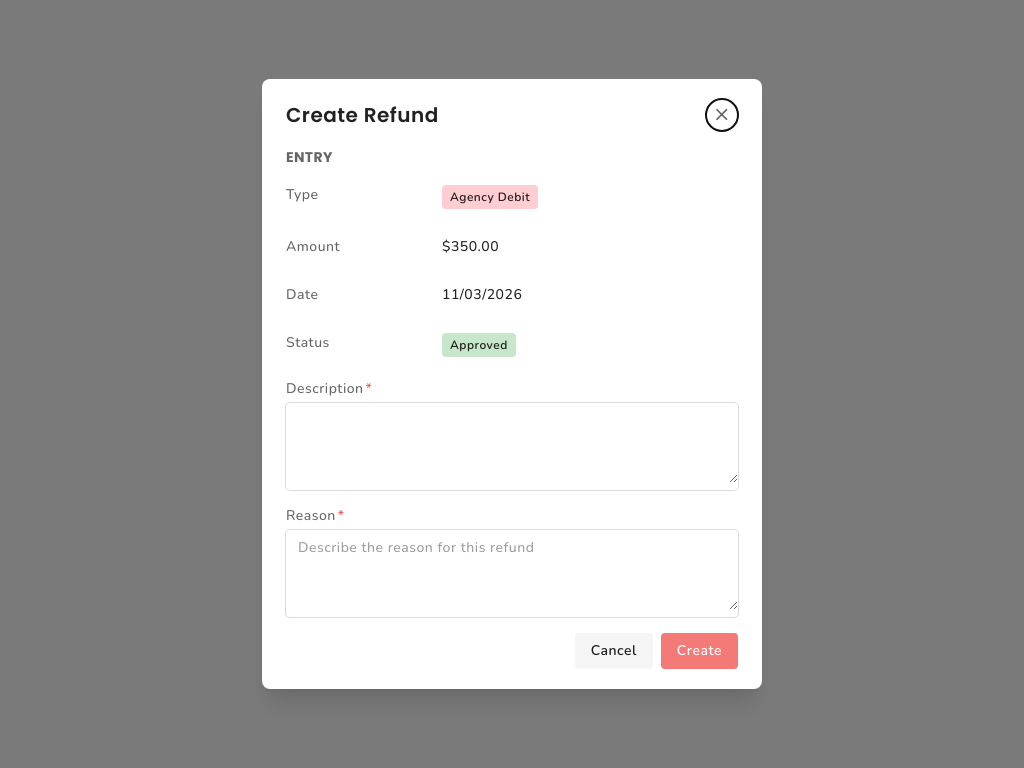
Scenario: CreateRefundModal › falls back to the generic message on a 500
The width and height of the screenshot is (1024, 768).
Type "Refund requested" into the text box named "Description" at (512, 443), box [286,403,738,483]
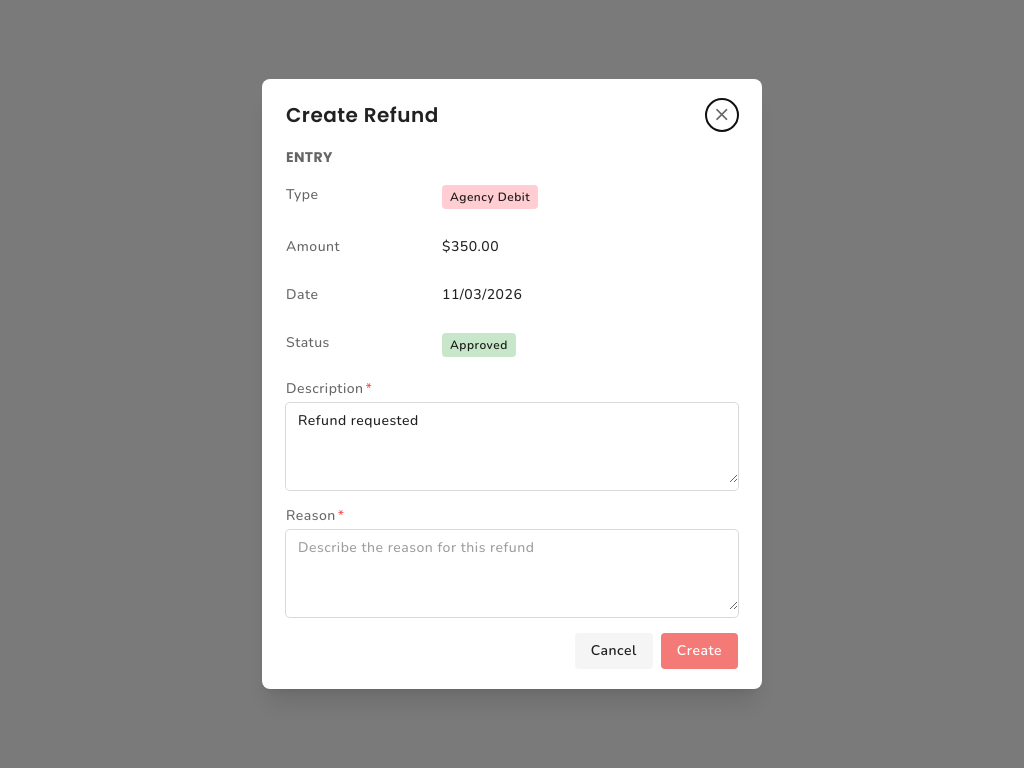
Type "Customer overpaid" into the text box labelled "reason" at (512, 570), box [286,530,738,610]
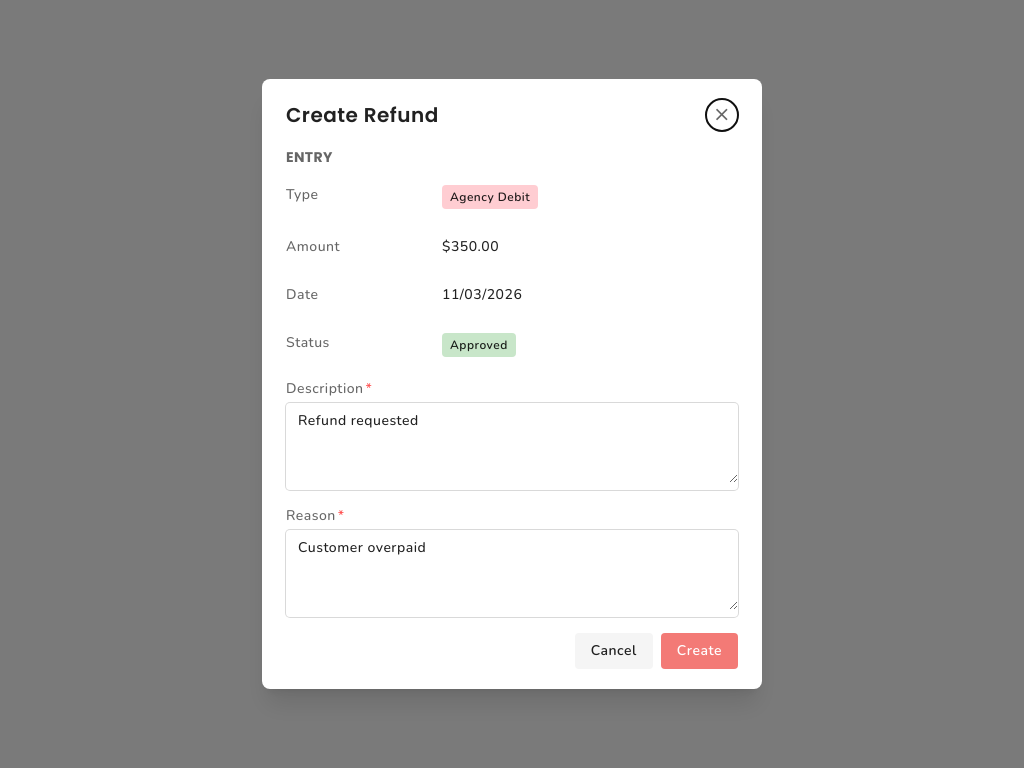
Click the button "Create" at (699, 651), box [661,633,738,669]
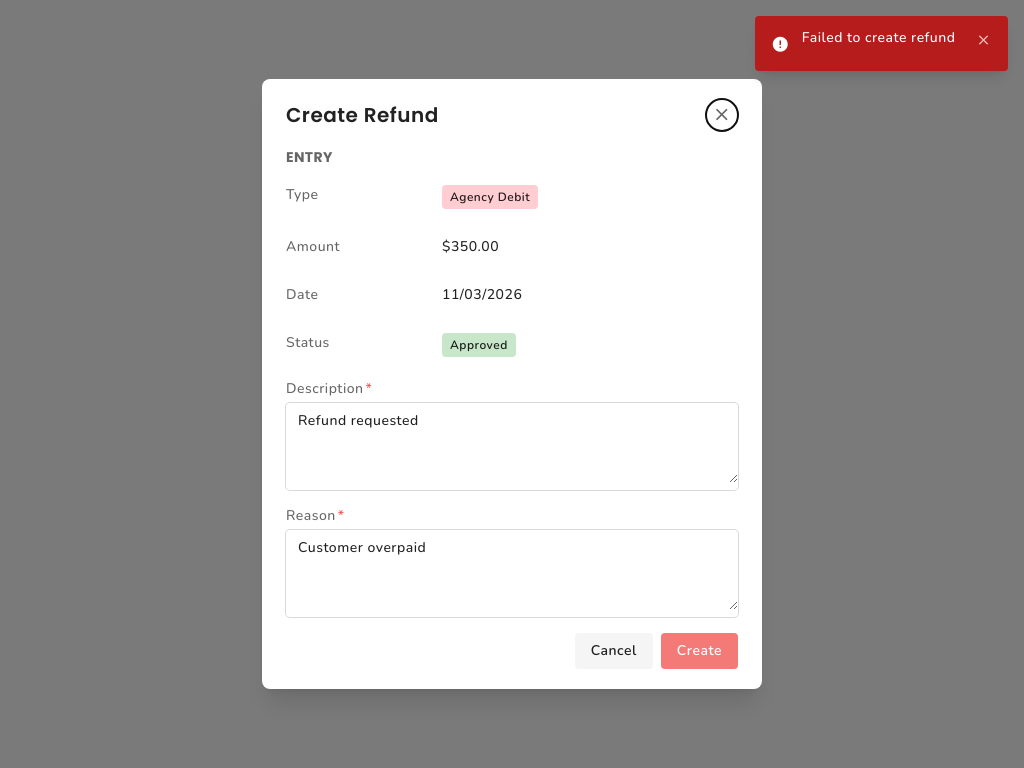
Expected: the text "Failed to create refund" is shown, [802,28,956,48]
